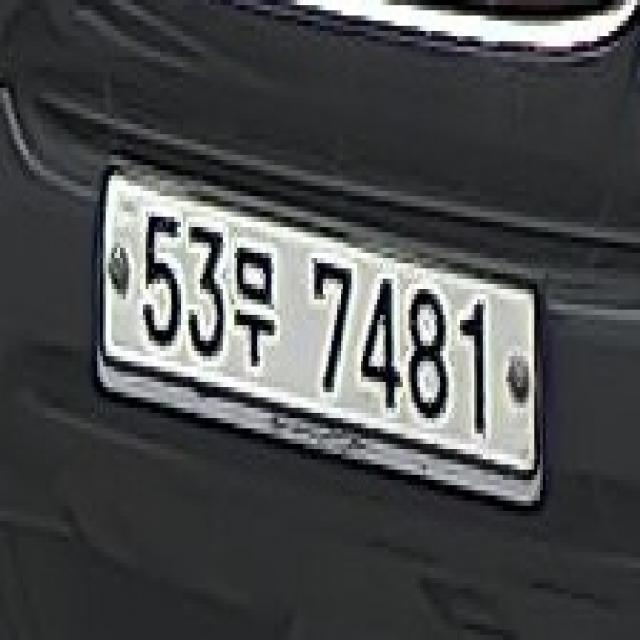1: (457, 289, 500, 465)
3: (180, 217, 231, 356)
4: (348, 263, 406, 439)
5: (129, 191, 180, 346)
7: (306, 238, 357, 402)
8: (406, 268, 454, 444)
license_plate: (86, 155, 551, 542)
mu: (228, 232, 283, 366)
